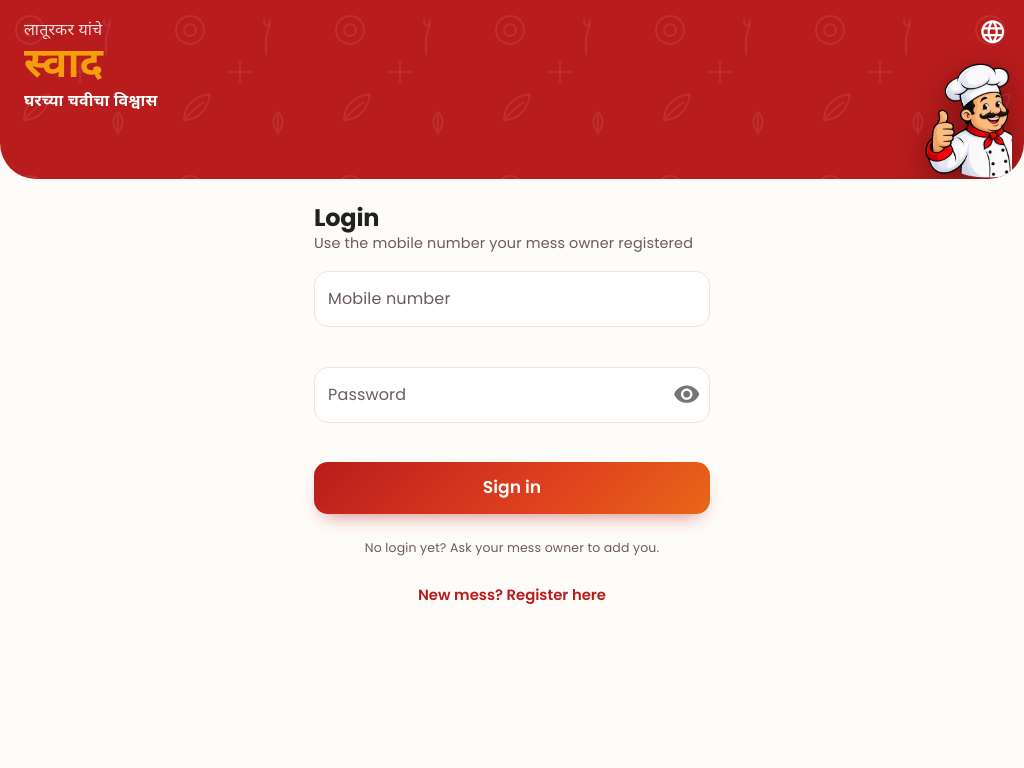
Test: LoginPage › validates phone before submitting
This screenshot has width=1024, height=768.
Type "123" into the field labelled "Mobile number" at (512, 299), box [314,271,710,327]
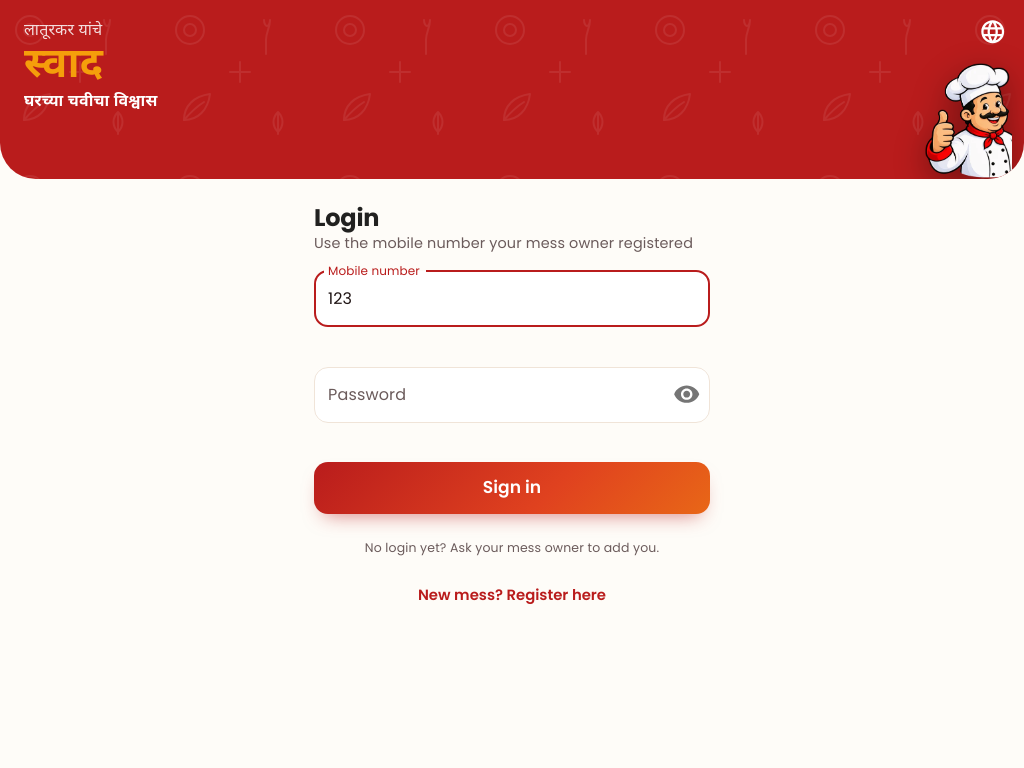
Type "secret1" into the password field labelled "Password" at (485, 395), box [314,367,657,423]
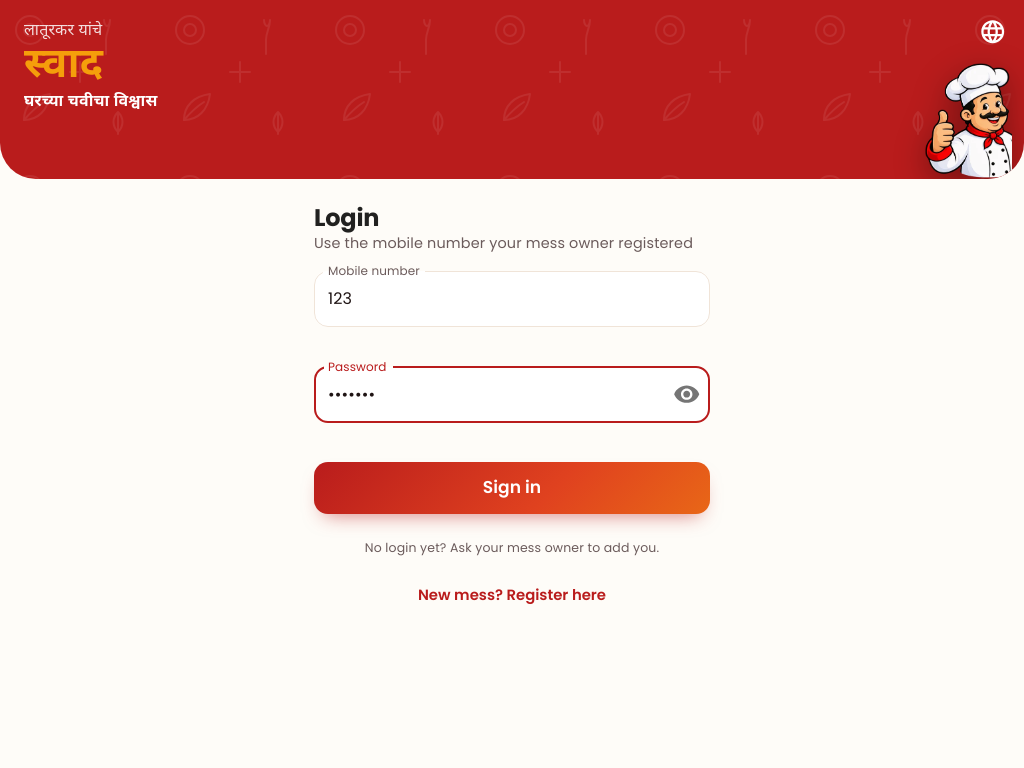
Click the button "Sign in" at (512, 488), box [314,462,710,514]
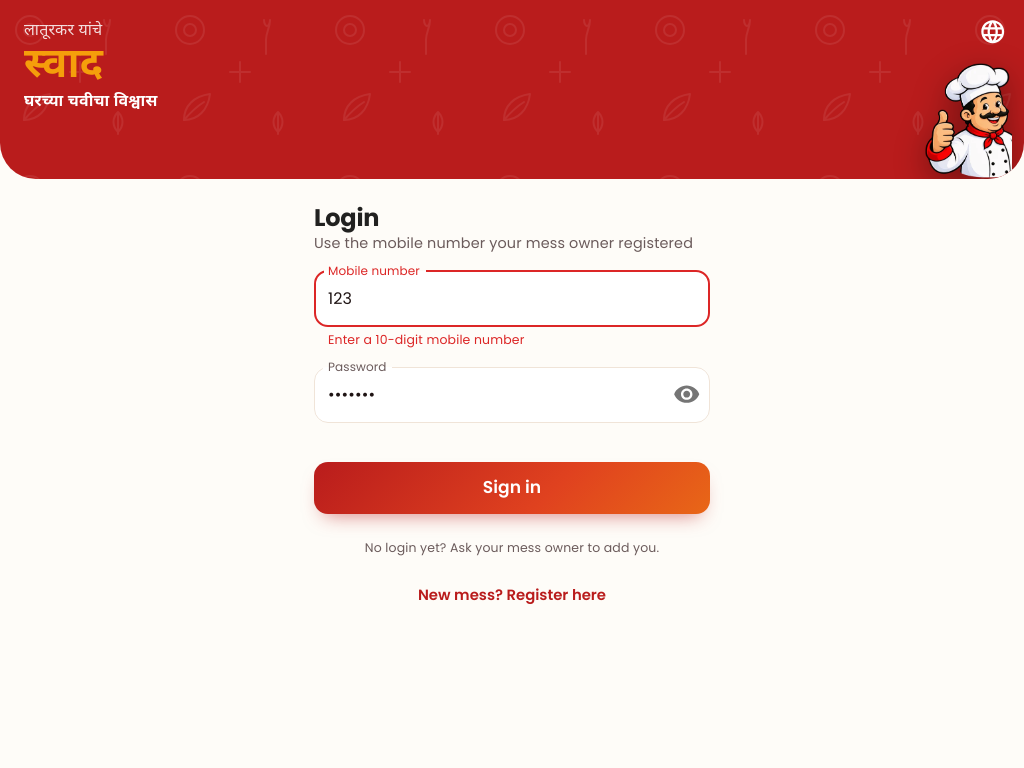
Now the text "Enter a 10-digit mobile number" is shown, box [328,331,524,348]
